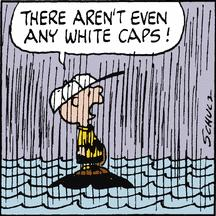charlie: (49, 74, 110, 176)
